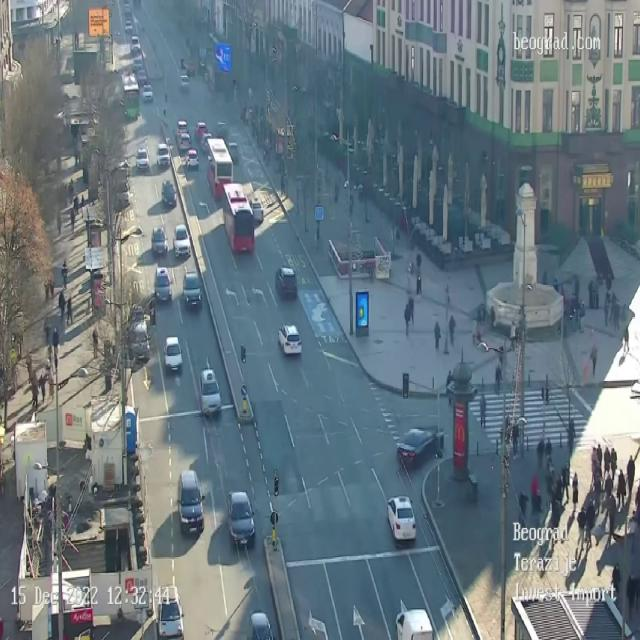bus: (222, 185, 256, 254), (206, 134, 234, 202), (121, 69, 138, 122)
car: (177, 469, 205, 535), (227, 491, 255, 547), (398, 428, 442, 463), (387, 494, 416, 542), (394, 608, 437, 640), (129, 309, 150, 363), (158, 597, 182, 640), (199, 368, 220, 416), (162, 334, 184, 374), (278, 324, 302, 355), (173, 220, 191, 261), (275, 266, 297, 298), (250, 612, 274, 640), (183, 274, 201, 310), (154, 268, 170, 306), (152, 227, 167, 259), (249, 198, 264, 219), (162, 183, 175, 207), (134, 152, 148, 174), (142, 84, 154, 108), (186, 153, 199, 170), (158, 145, 169, 165), (180, 133, 190, 153), (200, 132, 210, 152), (130, 35, 140, 55), (180, 74, 189, 94), (138, 67, 146, 85)
